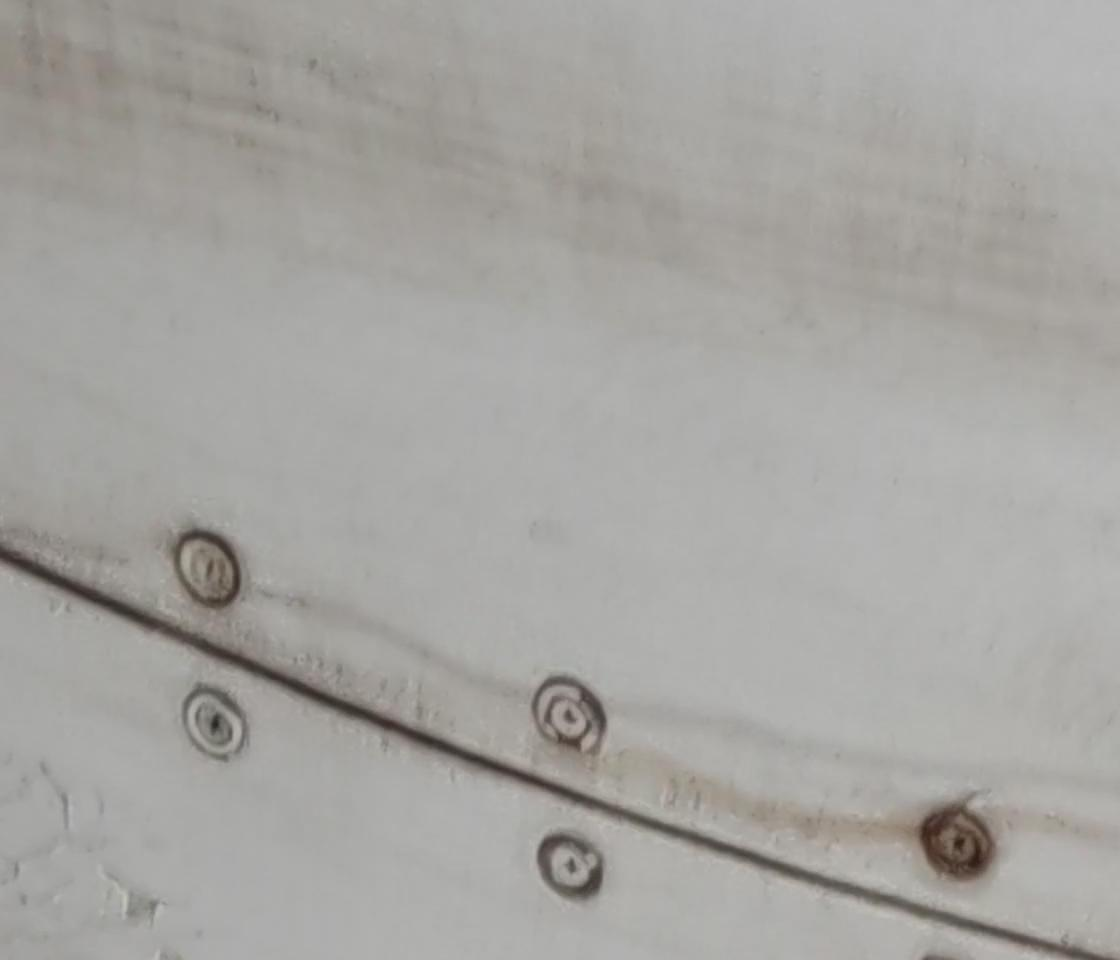rivet_damage: (909, 799, 1010, 887)
